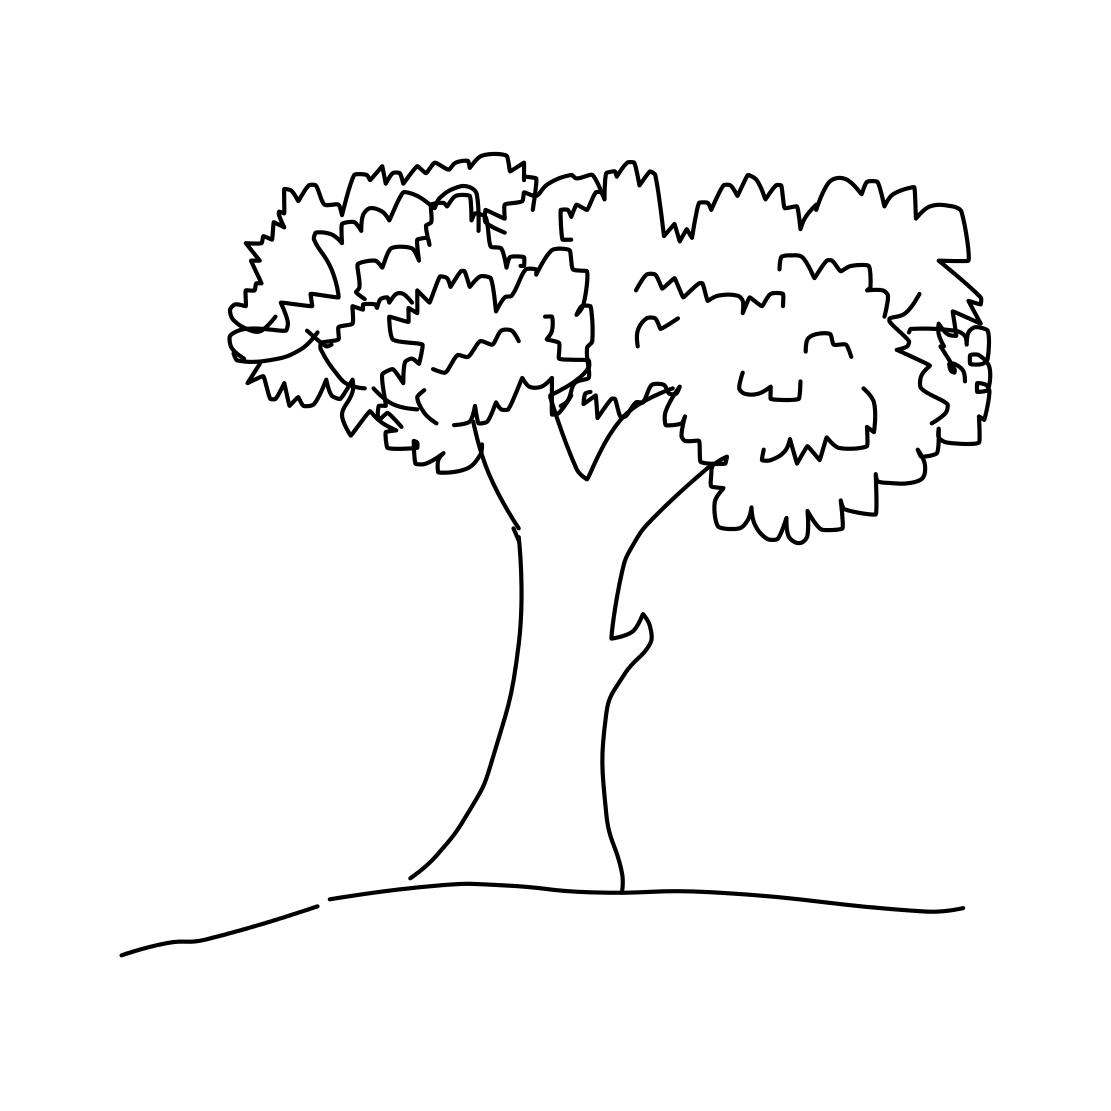Tree: (181, 113, 1010, 911)
